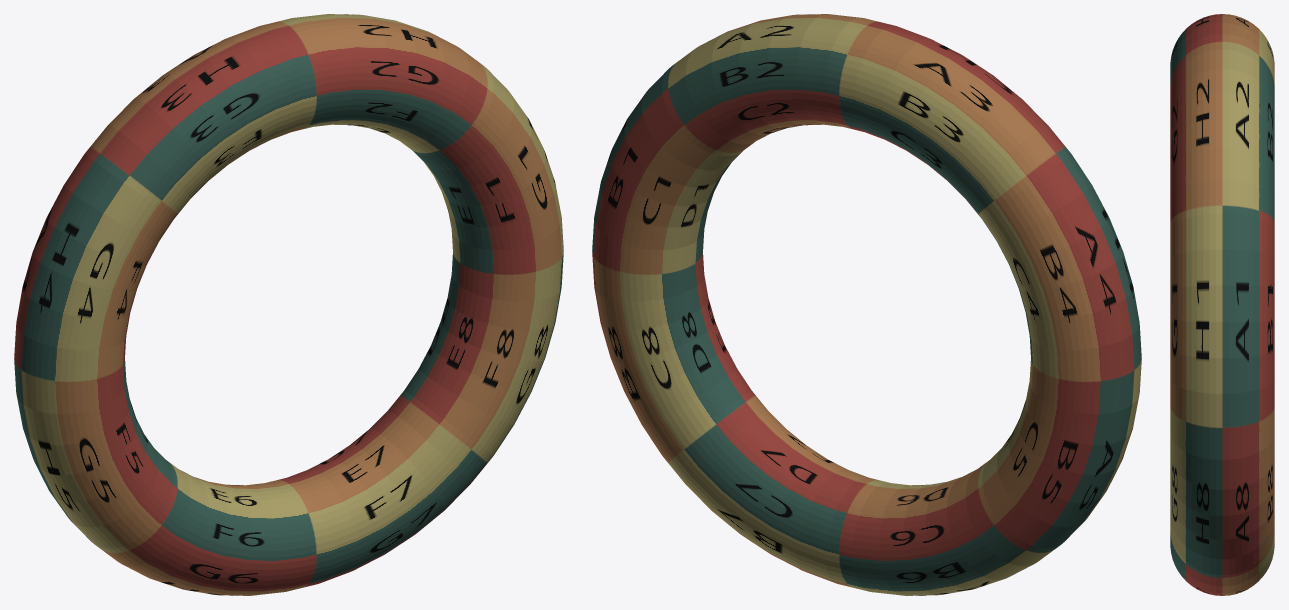
The model's file is texture_torus_R17_r10.glb.
3 views of the same model, side by side, from view 1: azimuth 30°, elevation 25°; view 2: azimuth 150°, elevation 25°; view 3: azimuth 270°, elevation 25° (orthographic). The views are drawn at different scales.
Parts seen in each view (by area): view 1: world; view 2: world; view 3: world.
Boxes of the visible parts, box(x1,y1,x2,y2) form: world: box(14, 14, 563, 595); world: box(592, 14, 1141, 595); world: box(1170, 14, 1274, 595).
Size of the model in its own units: 26 by 25.95 by 4.66.
Materials: 1 (1 with a texture image).
